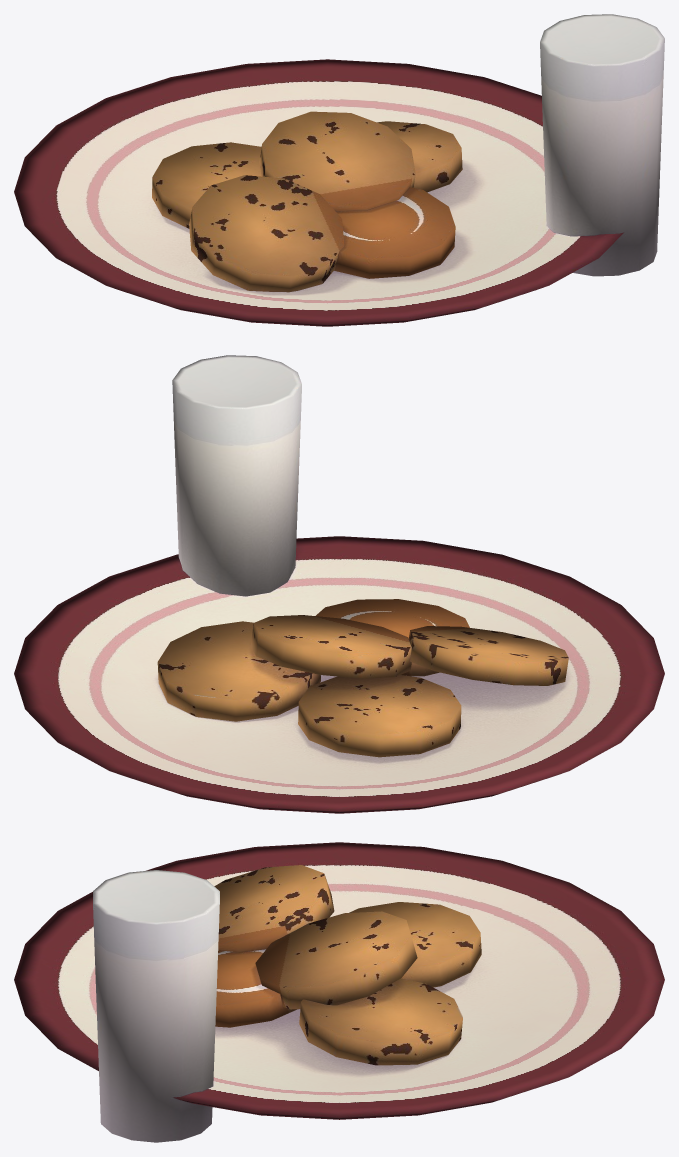
The model's file is cookie_plate.glb.
3 renders of one model, top to bottom at view 1: azimuth 30°, elevation 25°; view 2: azimuth 150°, elevation 25°; view 3: azimuth 270°, elevation 25°, orthographic. The views are drawn at different scales.
Parts seen in each view (by area): view 1: Plate, Cookies, Milk; view 2: Plate, Cookies, Milk; view 3: Plate, Cookies, Milk.
Boxes of the visible parts, x1,y1,x2,y2 form: Plate: [14, 59, 623, 326]; Cookies: [152, 111, 462, 292]; Milk: [540, 14, 664, 276]; Plate: [14, 536, 664, 813]; Cookies: [157, 599, 568, 757]; Milk: [172, 355, 301, 596]; Plate: [14, 842, 664, 1119]; Cookies: [214, 865, 481, 1065]; Milk: [93, 870, 219, 1142].
Size of the model in its own units: 0.32 by 0.12 by 0.32.
1 material, 1 textured.
